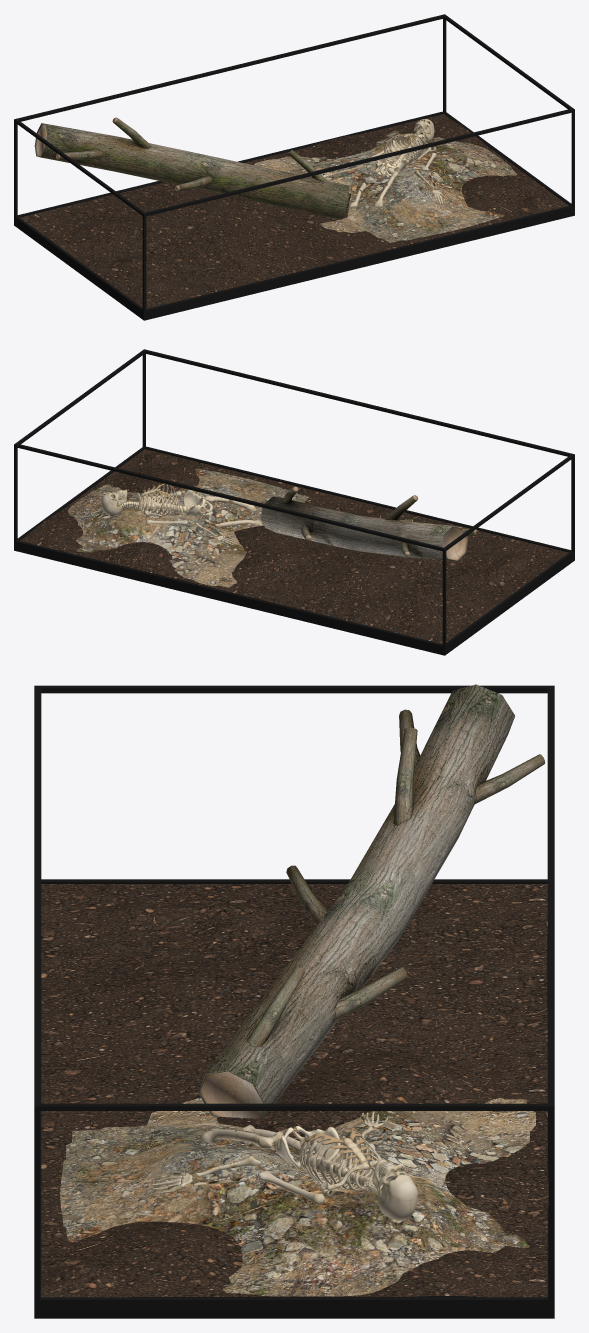
The model's file is Terrario.fbx.
3 renders of one model, top to bottom at view 1: azimuth 30°, elevation 25°; view 2: azimuth 150°, elevation 25°; view 3: azimuth 270°, elevation 25°, orthographic. The views are drawn at different scales.
Parts seen in each view (by area): view 1: Cube.010, Plane_Plane.001, Cube.002_Cube.004, nog_rece_low_poly:nog_rece_low_poly_group3, klata_low_poly:klata_low_poly_group2; view 2: Cube.010, Plane_Plane.001, Cube.002_Cube.004, klata_low_poly:klata_low_poly_group2, nog_rece_low_poly:nog_rece_low_poly_group3, czaszka_retopo:czaszka_retopo_group1; view 3: Cube.010, Plane_Plane.001, Cube.002_Cube.004, klata_low_poly:klata_low_poly_group2, nog_rece_low_poly:nog_rece_low_poly_group3, czaszka_retopo:czaszka_retopo_group1.
Part boxes in pixels (left/top/right/bottom): Cube.010: left=14, top=14, right=574, bottom=320; Plane_Plane.001: left=254, top=130, right=517, bottom=242; Cube.002_Cube.004: left=34, top=117, right=349, bottom=219; nog_rece_low_poly:nog_rece_low_poly_group3: left=321, top=135, right=446, bottom=207; klata_low_poly:klata_low_poly_group2: left=375, top=134, right=424, bottom=179; Cube.010: left=14, top=349, right=574, bottom=655; Plane_Plane.001: left=68, top=468, right=309, bottom=587; Cube.002_Cube.004: left=260, top=486, right=476, bottom=560; klata_low_poly:klata_low_poly_group2: left=121, top=483, right=212, bottom=516; nog_rece_low_poly:nog_rece_low_poly_group3: left=137, top=486, right=262, bottom=545; czaszka_retopo:czaszka_retopo_group1: left=101, top=489, right=127, bottom=515; Cube.010: left=34, top=685, right=554, bottom=1318; Plane_Plane.001: left=60, top=1097, right=535, bottom=1296; Cube.002_Cube.004: left=198, top=684, right=545, bottom=1119; klata_low_poly:klata_low_poly_group2: left=272, top=1125, right=382, bottom=1193; nog_rece_low_poly:nog_rece_low_poly_group3: left=150, top=1111, right=405, bottom=1204; czaszka_retopo:czaszka_retopo_group1: left=372, top=1159, right=417, bottom=1220.
Bounding box in the file's own units: 956 × 250 × 500.
7 materials, 7 textured.
